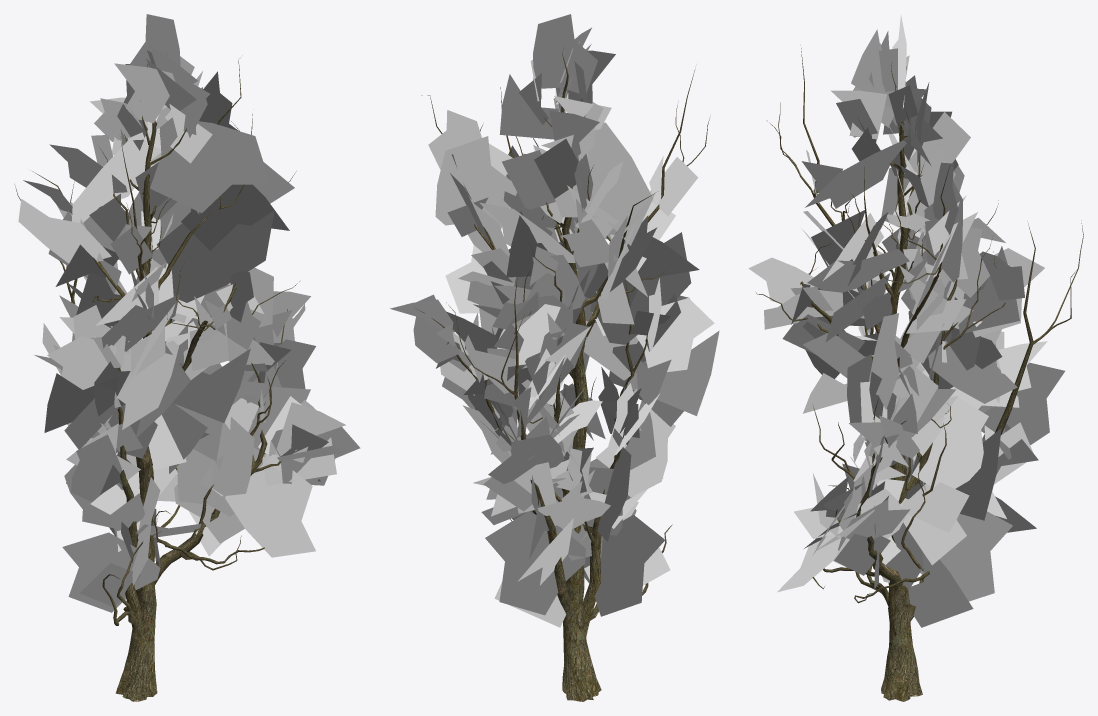
The model's file is Tree_6136.fbx.
3 renders of one model, left to right at view 1: azimuth 30°, elevation 25°; view 2: azimuth 150°, elevation 25°; view 3: azimuth 270°, elevation 25°, orthographic.
Visible parts, largest first — view 1: Tree_6136_Viaz_AT, Tree_6136_VIAZ_bARK; view 2: Tree_6136_Viaz_AT, Tree_6136_VIAZ_bARK; view 3: Tree_6136_Viaz_AT, Tree_6136_VIAZ_bARK.
Part boxes in pixels (box(x1,y1,x2,y2)): Tree_6136_Viaz_AT: box(18, 14, 360, 612); Tree_6136_VIAZ_bARK: box(14, 54, 299, 701); Tree_6136_Viaz_AT: box(390, 14, 719, 627); Tree_6136_VIAZ_bARK: box(419, 49, 709, 701); Tree_6136_Viaz_AT: box(748, 15, 1064, 627); Tree_6136_VIAZ_bARK: box(756, 48, 1083, 701).
Bounding box in the file's own units: 22.36 × 48.99 × 21.77.
